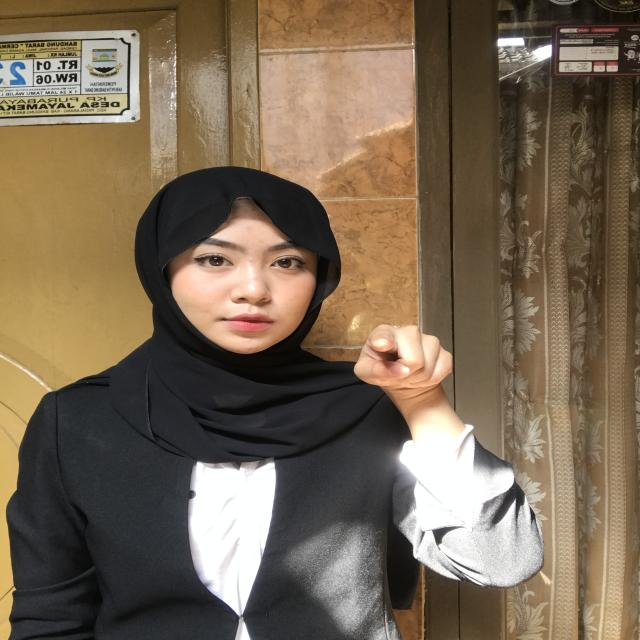kamu: (331, 306, 463, 411)
